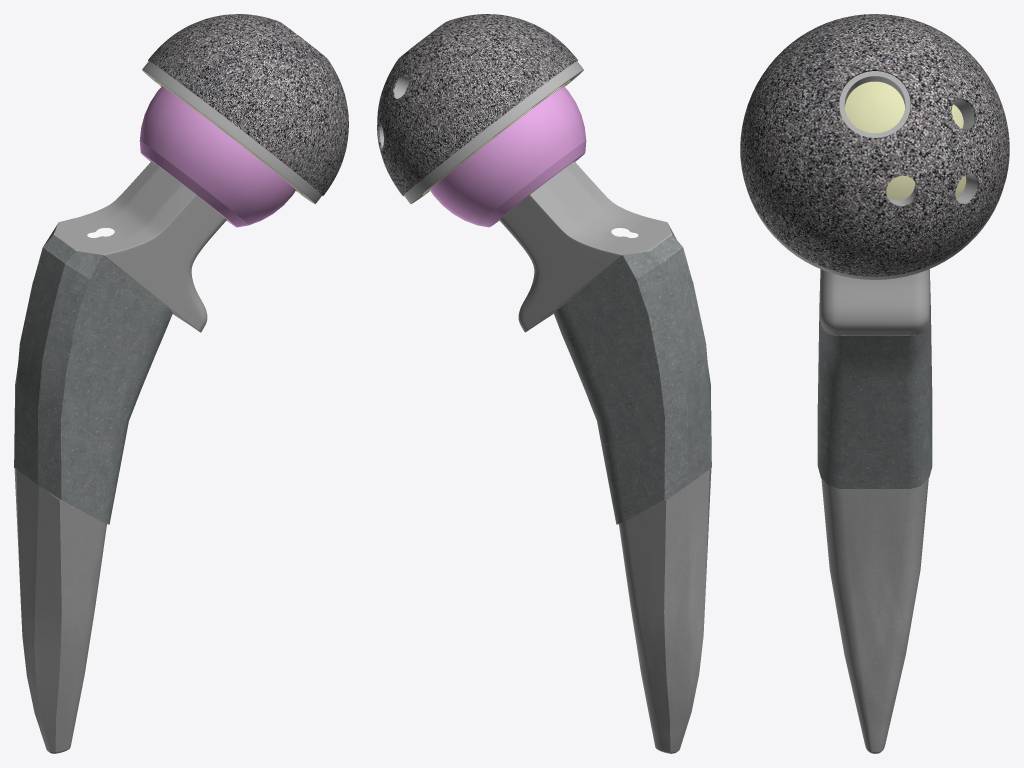
3 views of the same model, side by side, from view 1: azimuth 30°, elevation 25°; view 2: azimuth 150°, elevation 25°; view 3: azimuth 270°, elevation 25° (orthographic). The views are drawn at different scales.
Parts seen in each view (by area): view 1: oo, pSphere5, ww, tt, pSphere9, pSphere7; view 2: oo, pSphere5, ww, tt, pSphere9, pSphere7; view 3: pSphere5, ww, oo, tt, pCylinder26, pSphere7.
Boxes of the visible parts, left/top/right/bottom form: oo: left=14, top=224, right=172, bottom=524; pSphere5: left=148, top=14, right=348, bottom=195; ww: left=14, top=468, right=106, bottom=753; tt: left=54, top=162, right=226, bottom=332; pSphere9: left=139, top=86, right=295, bottom=227; pSphere7: left=142, top=61, right=322, bottom=204; oo: left=553, top=224, right=711, bottom=524; pSphere5: left=377, top=14, right=577, bottom=195; ww: left=619, top=468, right=711, bottom=753; tt: left=499, top=162, right=671, bottom=332; pSphere9: left=430, top=86, right=586, bottom=227; pSphere7: left=379, top=61, right=583, bottom=203; pSphere5: left=740, top=14, right=1009, bottom=276; ww: left=821, top=478, right=928, bottom=753; oo: left=817, top=279, right=932, bottom=488; tt: left=820, top=269, right=929, bottom=335; pCylinder26: left=845, top=81, right=966, bottom=200; pSphere7: left=748, top=71, right=1001, bottom=279.
Size of the model in its own units: 0.1206 by 0.2553 by 0.0752.
Materials: 6 (2 with a texture image).
